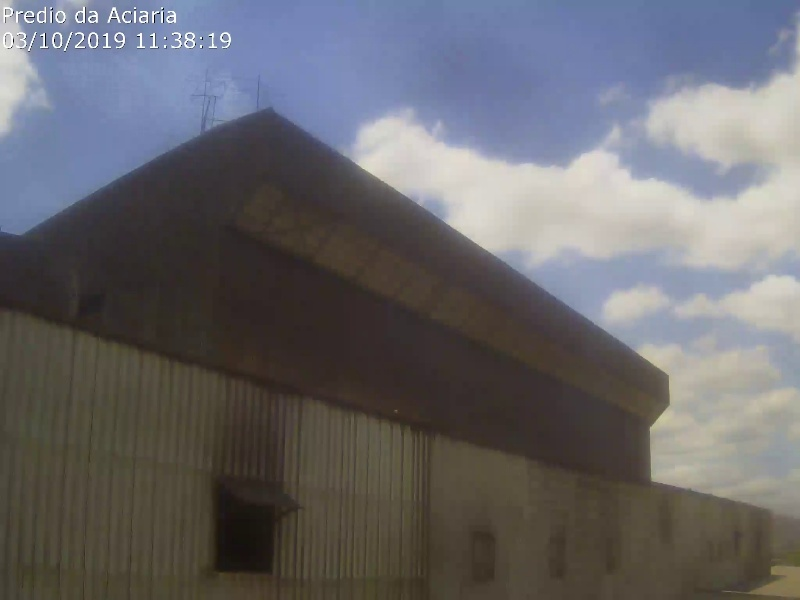bom: (266, 7, 702, 399), (21, 7, 261, 138)
